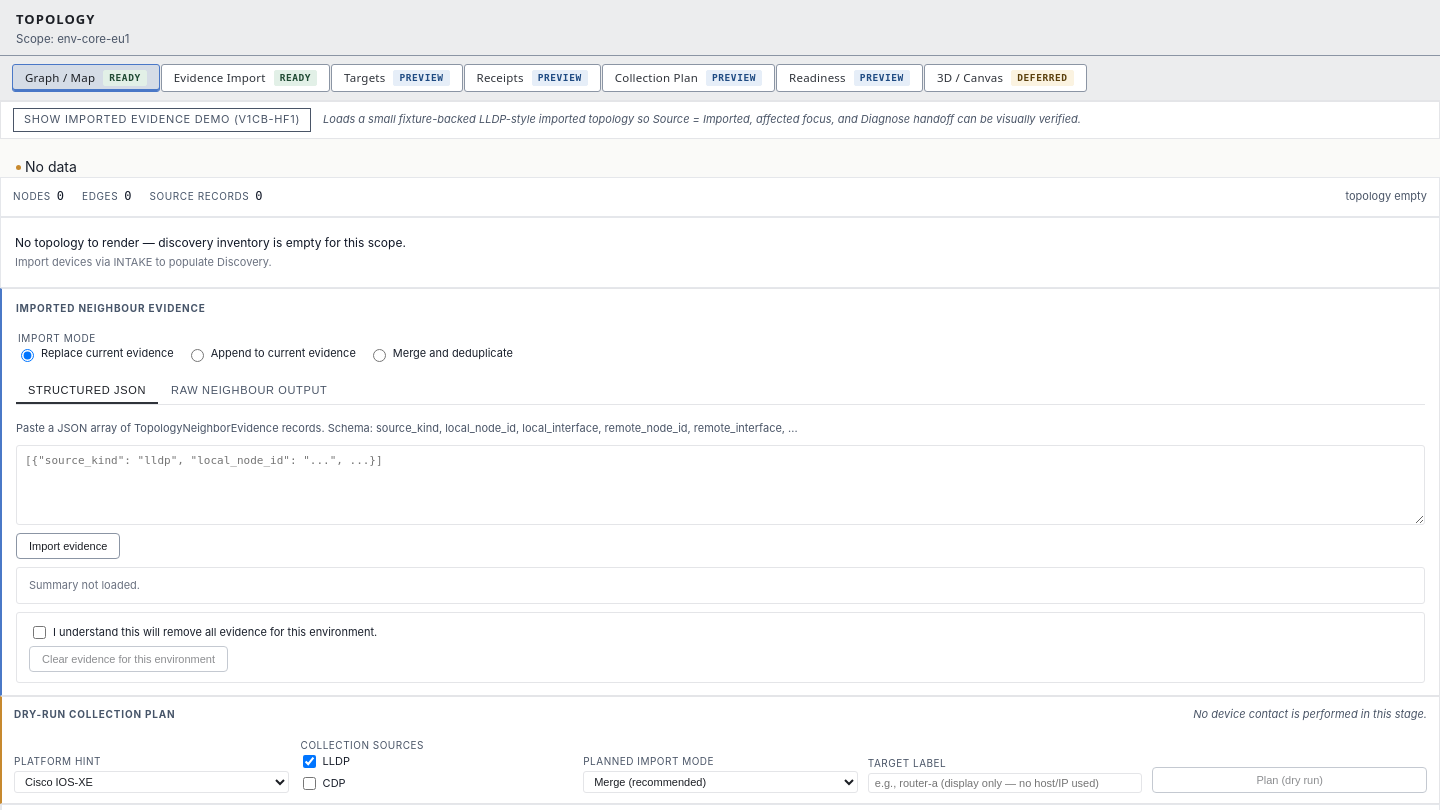
TopologyMode — workbench (V1BI) › switching to Evidence Import shows the import controls and hides tm-summary
Click the tab with test id "mwb-tool-evidence_import".
click(245, 78)  # box 161,64 -> 330,92
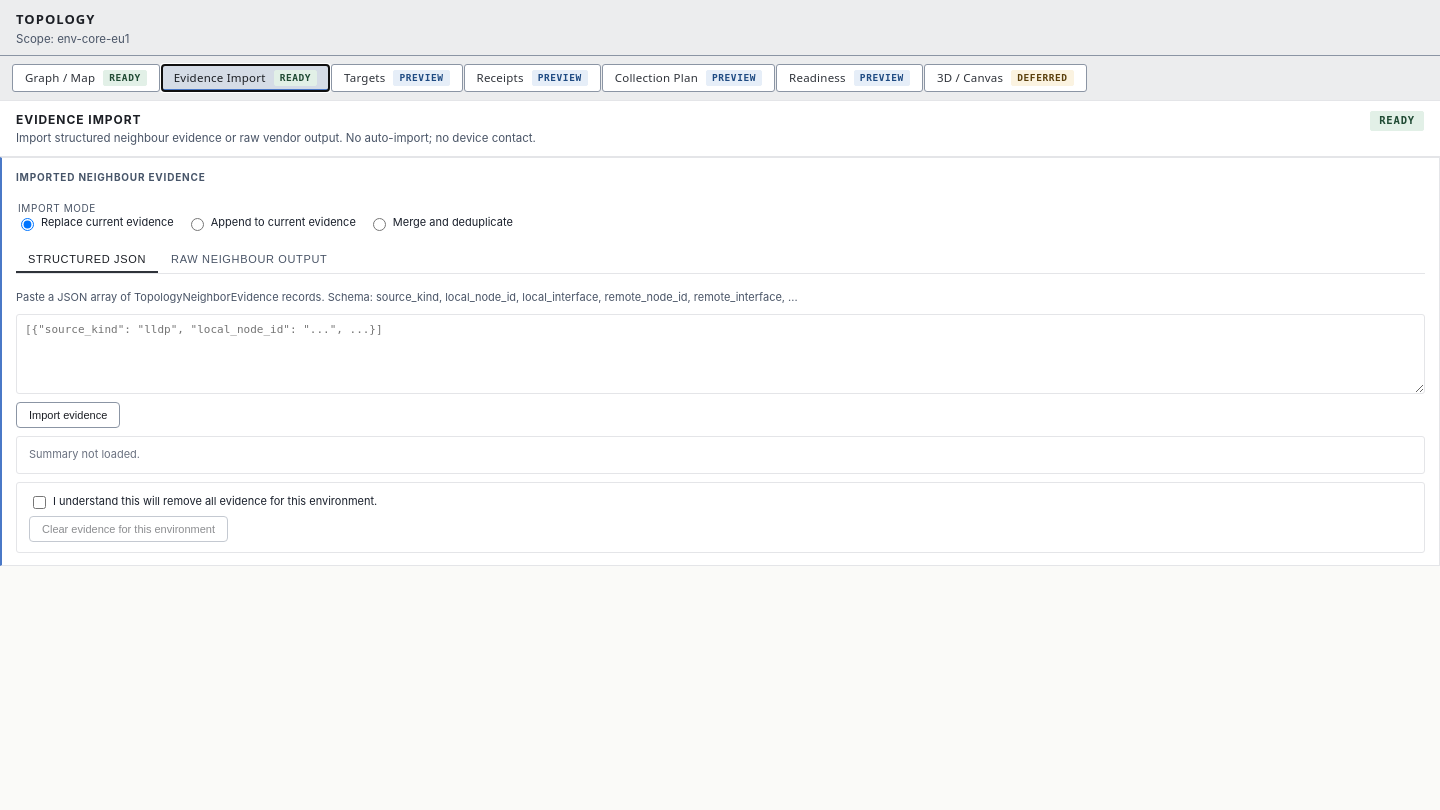
Expected: the text box with test id "tm-evidence-import-textarea" is shown, 16,314 -> 1425,394
Expected: the element with test id "tm-summary" is gone
